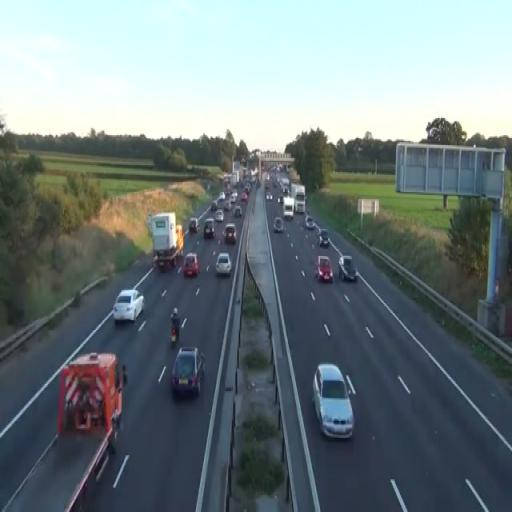Car: (312, 362, 355, 440), (170, 346, 206, 398), (112, 288, 144, 324), (338, 254, 357, 282), (315, 256, 334, 283), (216, 252, 232, 276), (184, 253, 200, 277), (223, 223, 238, 245), (203, 219, 215, 239), (274, 217, 284, 232)
Motorcycle: (170, 316, 180, 345)
Truck: (148, 212, 179, 270), (291, 184, 306, 214), (283, 196, 295, 220)
